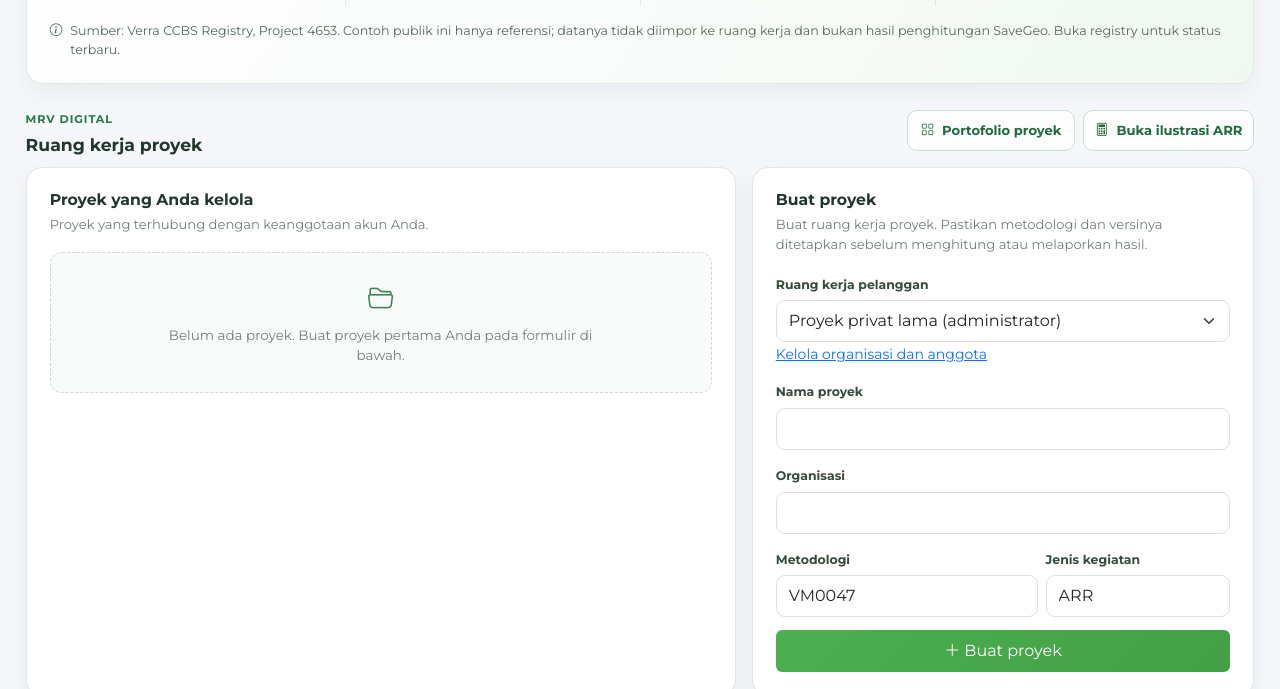
it: DmrvProjectsPage › explains a 403 on create without leaking server internals
The image size is (1280, 689).
(page scrolled)
Expected: the text "Belum ada proyek" is shown, [169,327,592,363]
Type "X" into the field labelled "Nama proyek" at [1003, 429], box [776,408,1230,450]
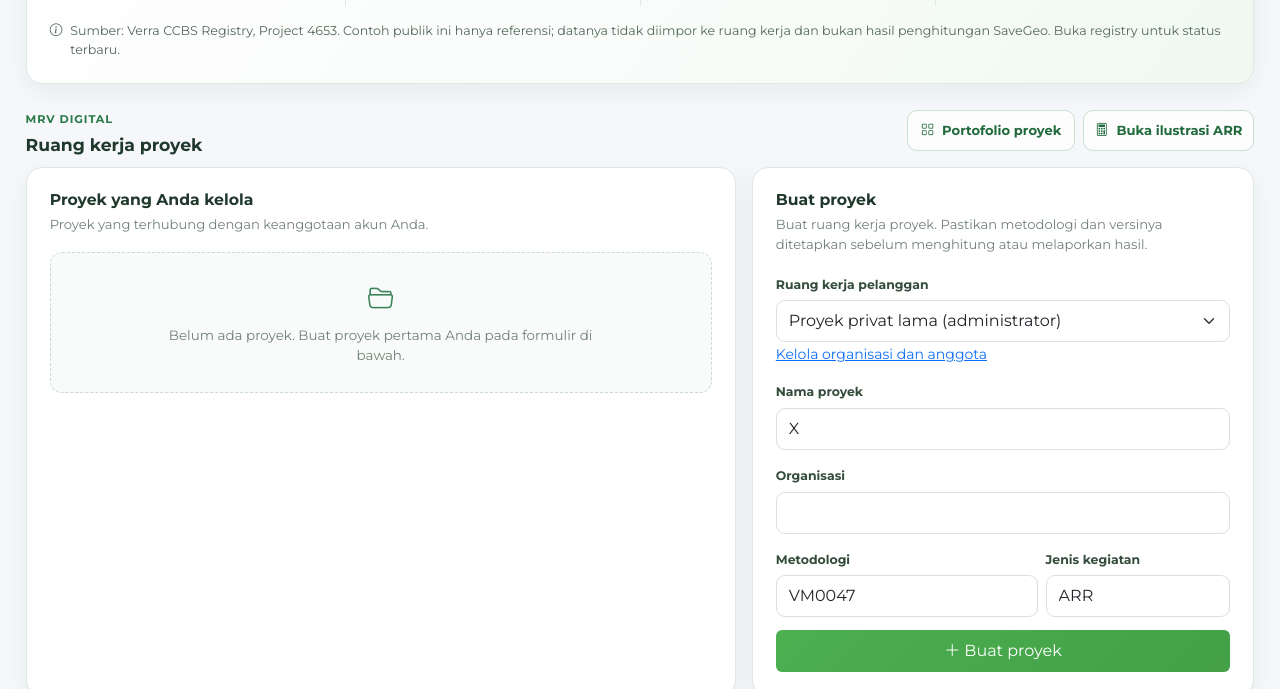
Click the button "Buat proyek" at [1003, 651], box [776,630,1230,672]
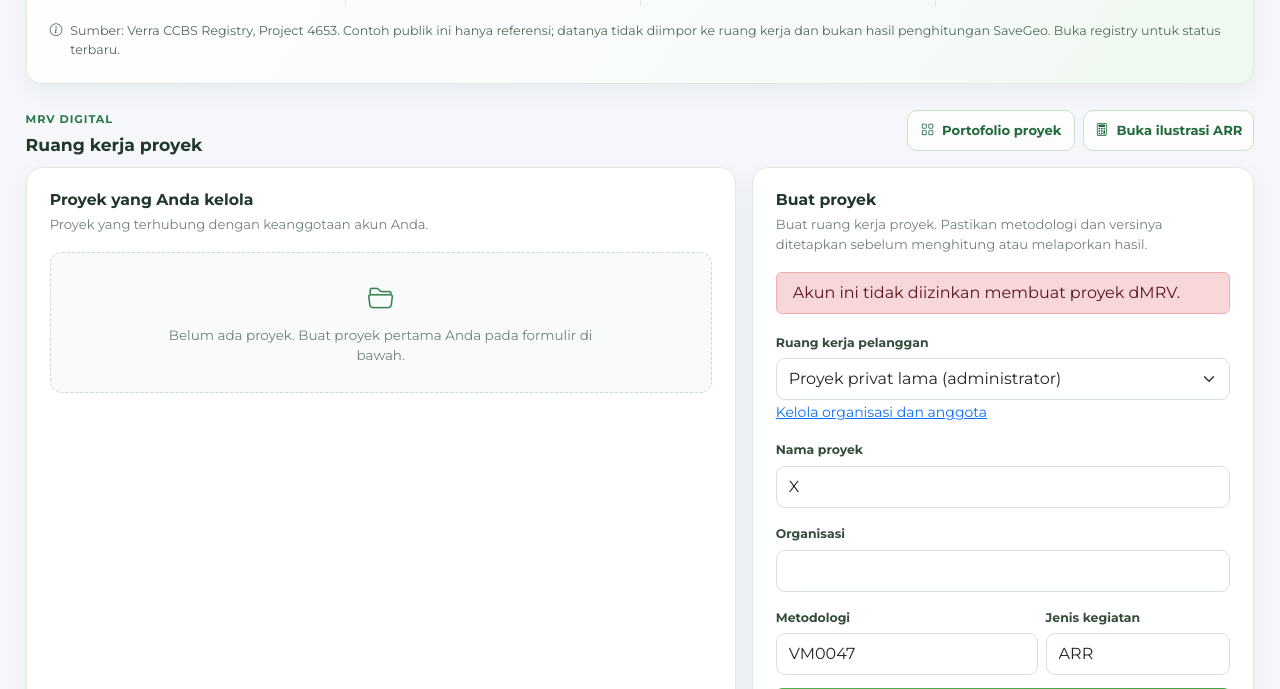
Result: the message reads "Akun ini tidak diizinkan membuat proyek dMRV." at [793,282,1180,302]
